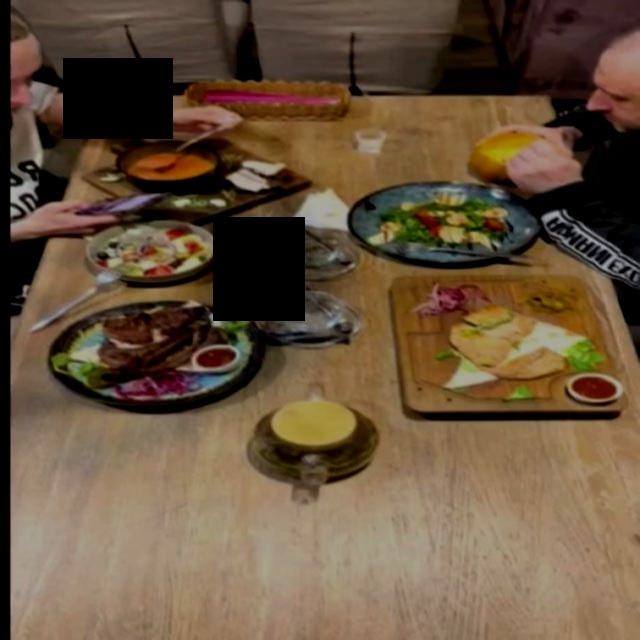meat: (380, 271, 629, 419), (45, 301, 269, 407)
salad: (350, 180, 543, 265), (84, 218, 213, 283)
soup: (79, 137, 314, 225), (430, 126, 584, 169)
tea: (227, 375, 384, 489)
